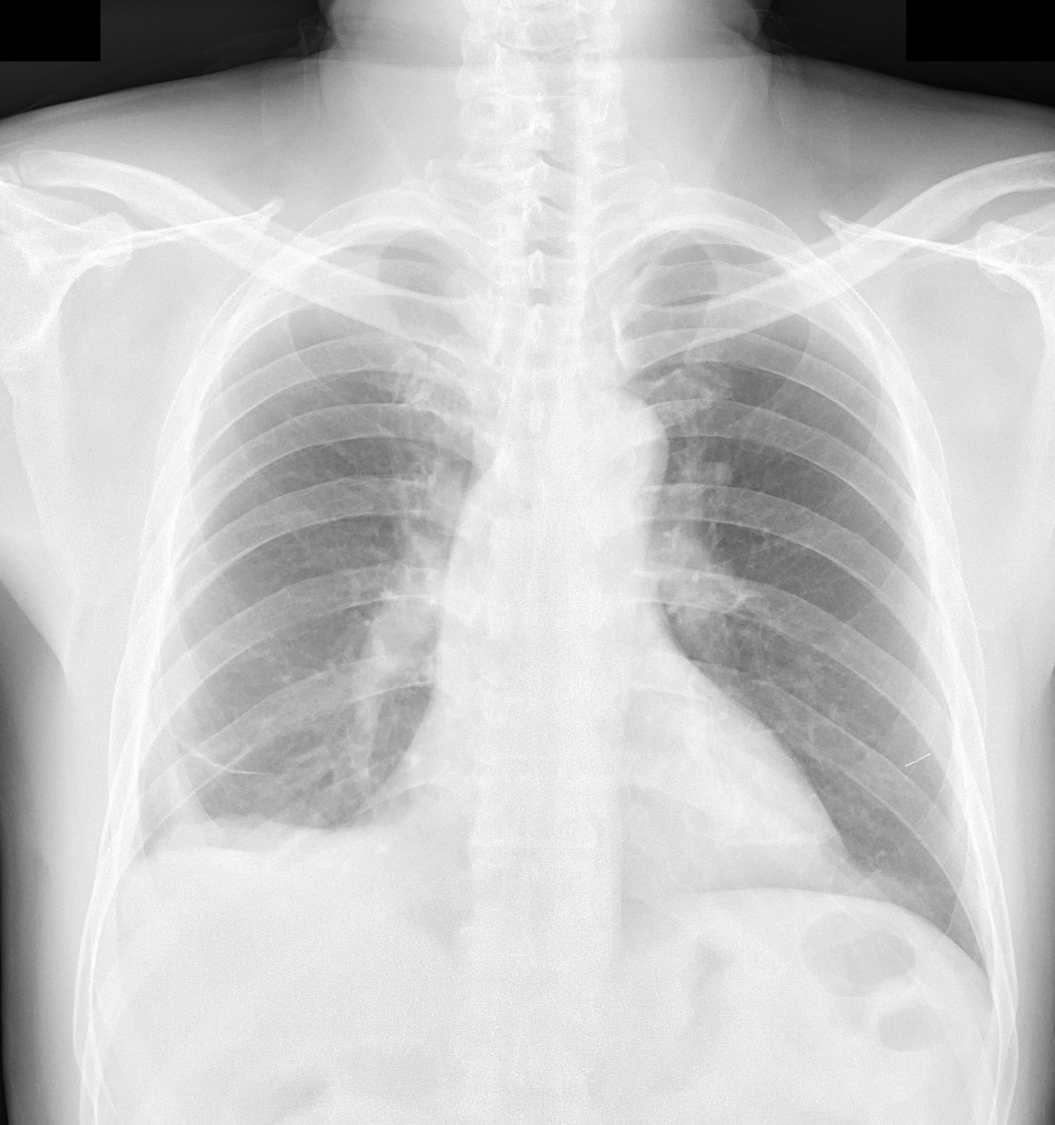Aortic enlargement: (543, 381, 674, 501)
Cardiomegaly: (399, 768, 863, 916)
Pleural thickening: (163, 813, 356, 862), (114, 813, 144, 905)
Pulmonary fibrosis: (162, 720, 279, 780)
